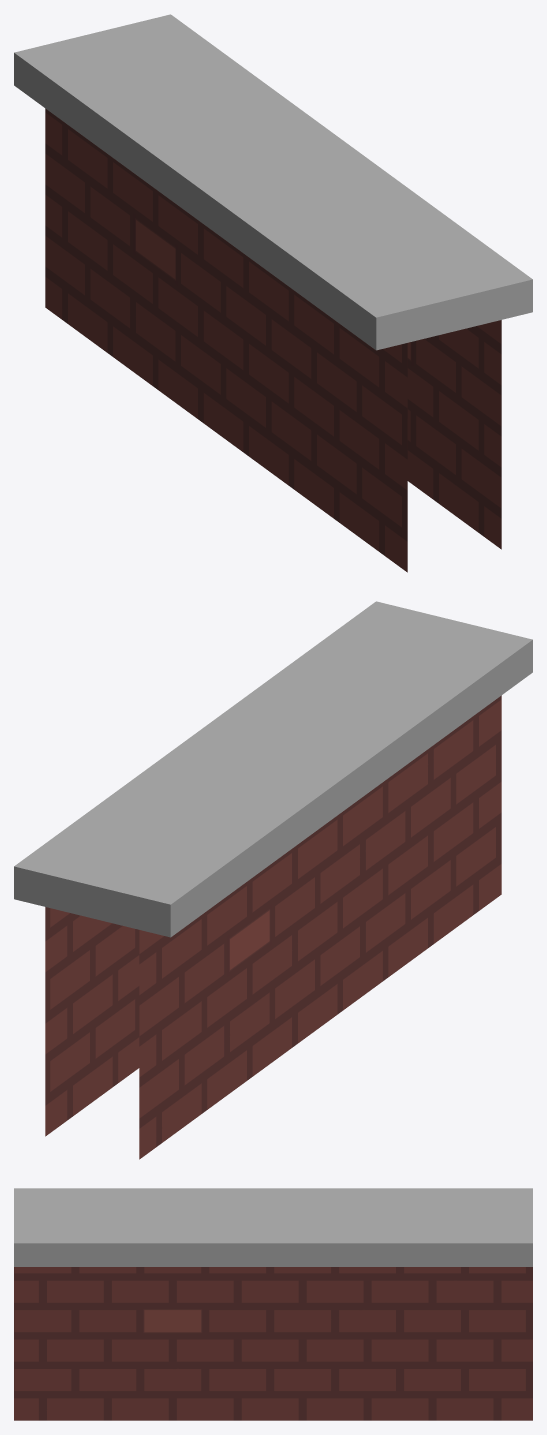
File: SM_wallAttic_02_half.glb
3 renders of one model, top to bottom at view 1: azimuth 30°, elevation 25°; view 2: azimuth 150°, elevation 25°; view 3: azimuth 270°, elevation 25°, orthographic. The views are drawn at different scales.
Visible parts, largest first — view 1: SM_wallAttic_02_half; view 2: SM_wallAttic_02_half; view 3: SM_wallAttic_02_half.
Boxes of the visible parts, x1,y1,x2,y2 form: SM_wallAttic_02_half: [14, 14, 532, 572]; SM_wallAttic_02_half: [14, 601, 532, 1159]; SM_wallAttic_02_half: [14, 1188, 532, 1420].
Size of the model in its own units: 0.5 by 0.8 by 2.
Materials: 2 (2 with a texture image).
